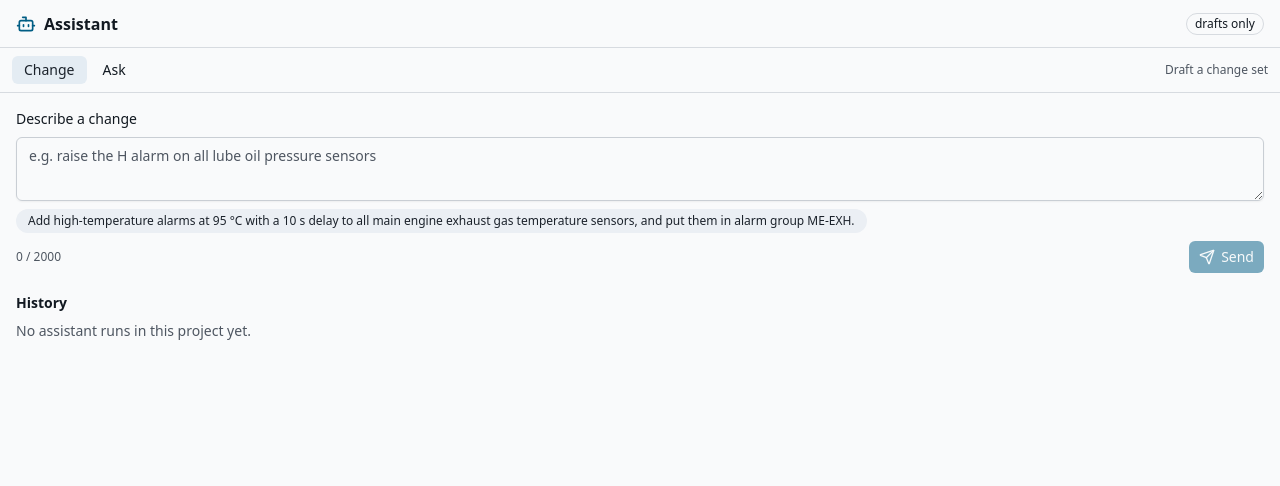
Test: Ask mode › lists retrieved sources collapsed, with score and used / not used, and an est. cost
Click the tab "Ask" at (114, 70), box [90,56,138,84]
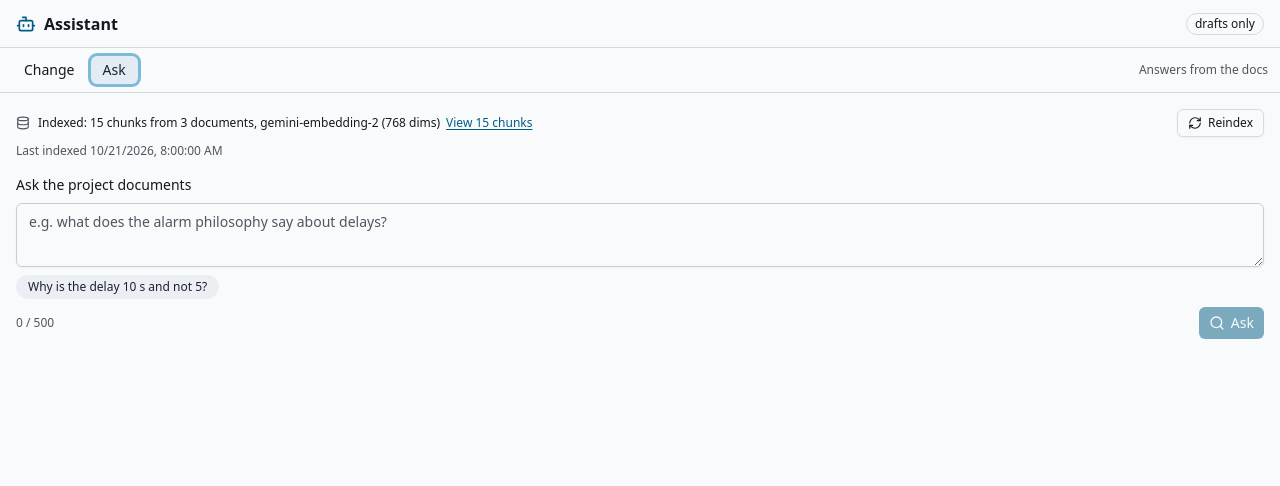
Type "why?" into the text box labelled "Ask the project documents" at (640, 235), box [16,203,1264,267]
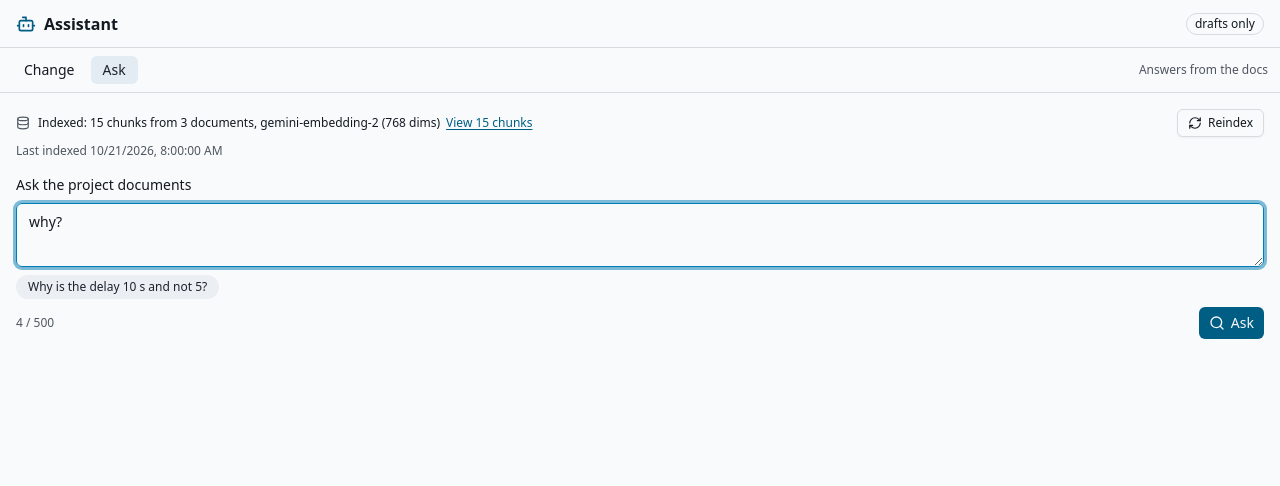
Click the button "Ask" at (1231, 323), box [1199,307,1264,339]
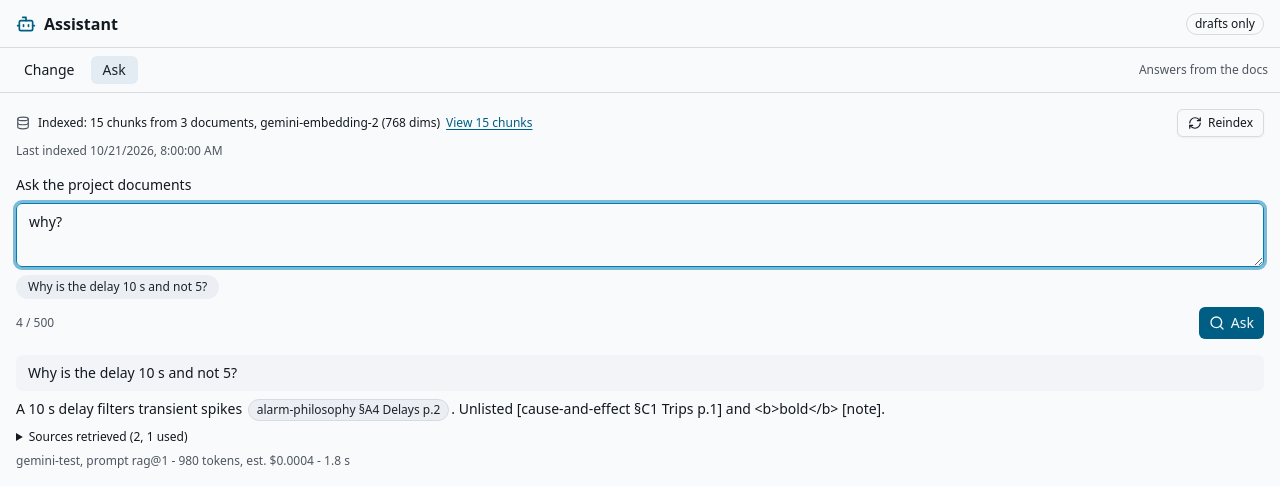
Check: the element with test id "sources-retrieved" reads "Sources retrieved (2, 1 used)", box [29,428,188,445]
Check: the text with test id "ask-usage" shows "est. $0.0004", box [16,452,350,469]
Check: the text with test id "ask-usage" shows "980 tokens", box [16,452,350,469]
